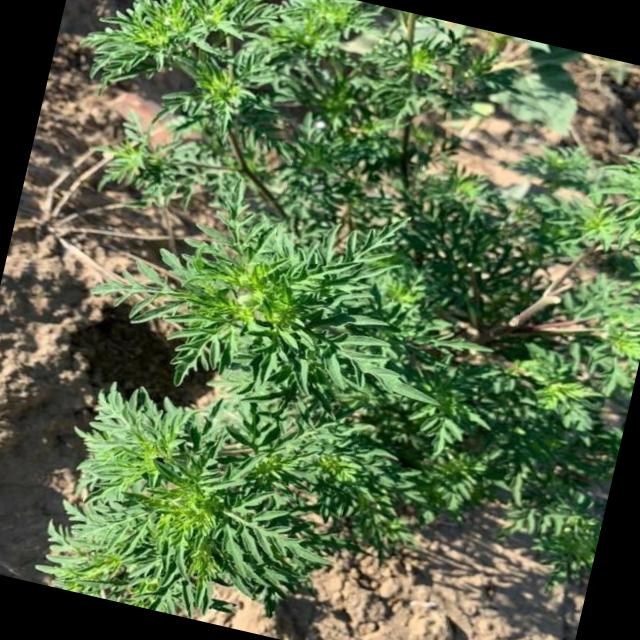ambrosia: (25, 371, 382, 624), (156, 192, 518, 441), (101, 0, 387, 162)
